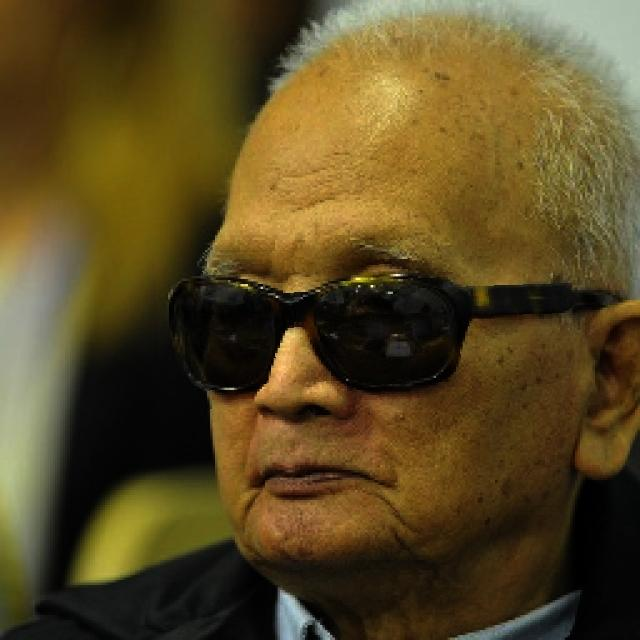glasses: (157, 245, 575, 408)
